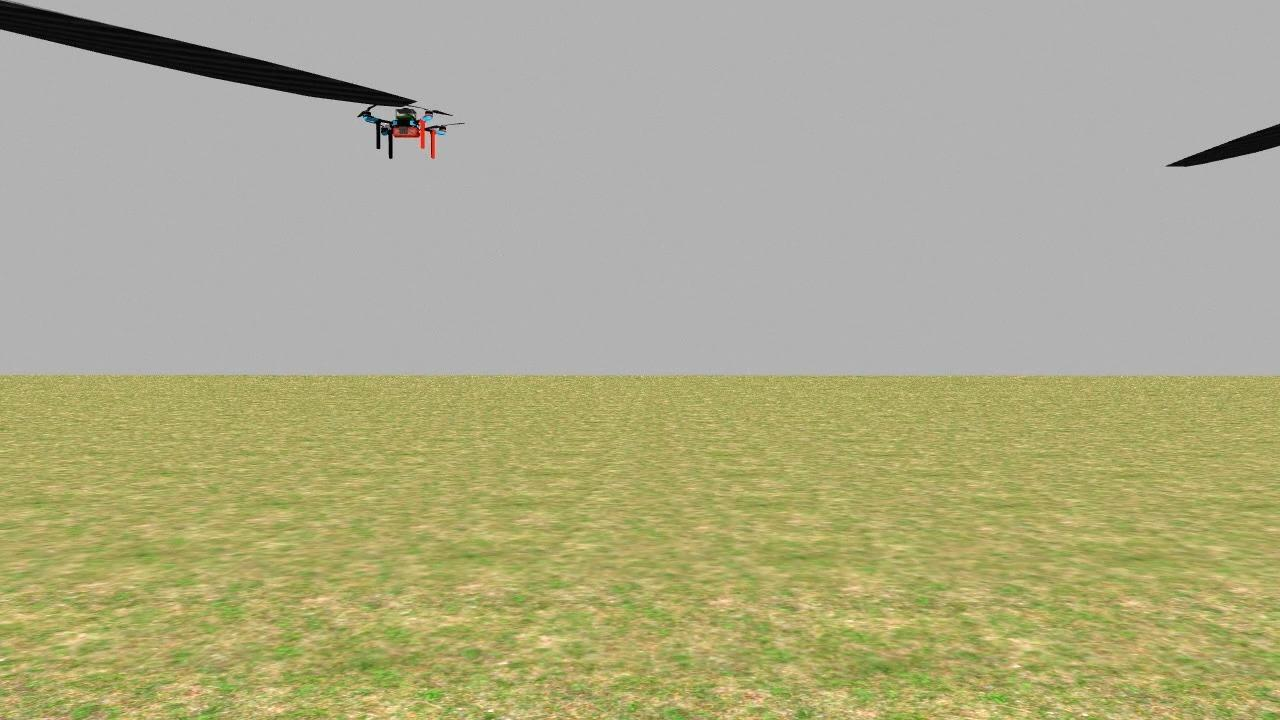UAV: (330, 84, 477, 174)
